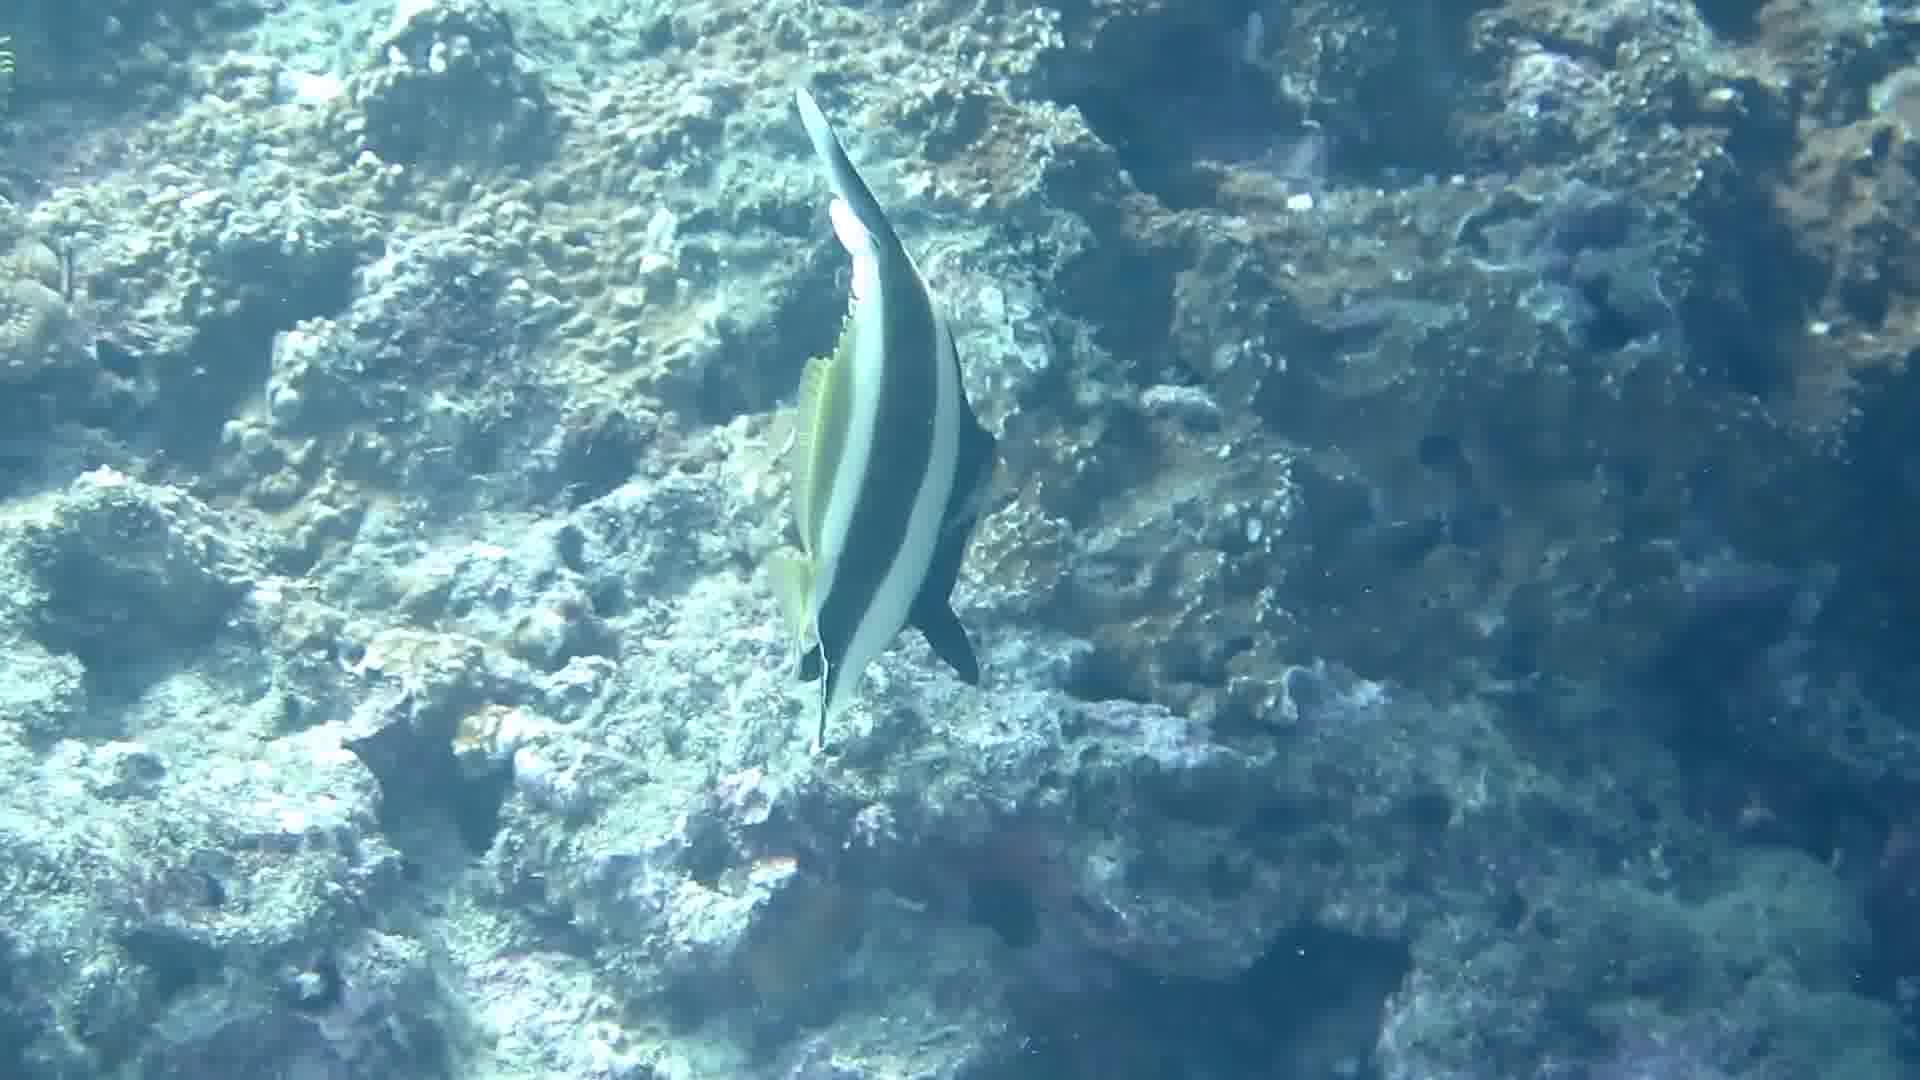Heniochus chrysostomus: (576, 44, 1118, 812)
